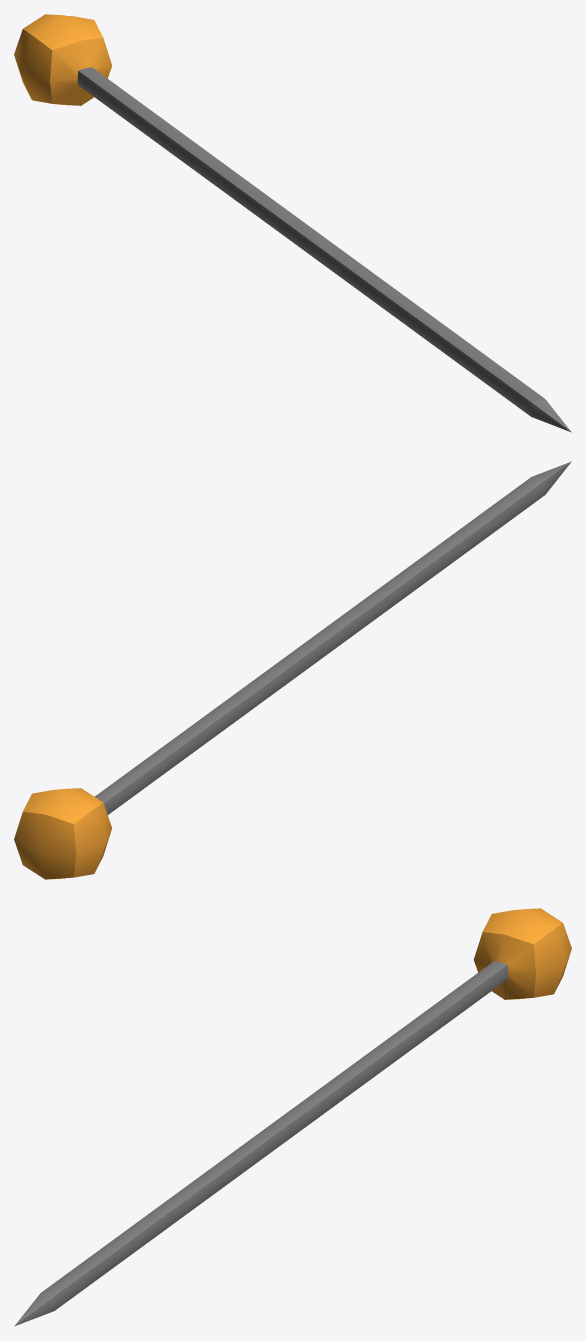
Rendered from pin.fbx.
3 renders of one model, top to bottom at view 1: azimuth 30°, elevation 25°; view 2: azimuth 150°, elevation 25°; view 3: azimuth 330°, elevation 25°, orthographic.
Parts seen in each view (by area): view 1: pin; view 2: pin; view 3: pin.
Boxes of the visible parts, x1=… form: pin: x1=14, y1=14, x2=571, y2=432; pin: x1=14, y1=461, x2=571, y2=879; pin: x1=14, y1=908, x2=571, y2=1326.
Bounding box in the file's own units: 0.4948 × 0.4948 × 5.33.
Materials: 2 (1 with a texture image).
